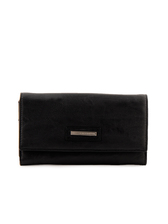other: (13, 91, 152, 168)
